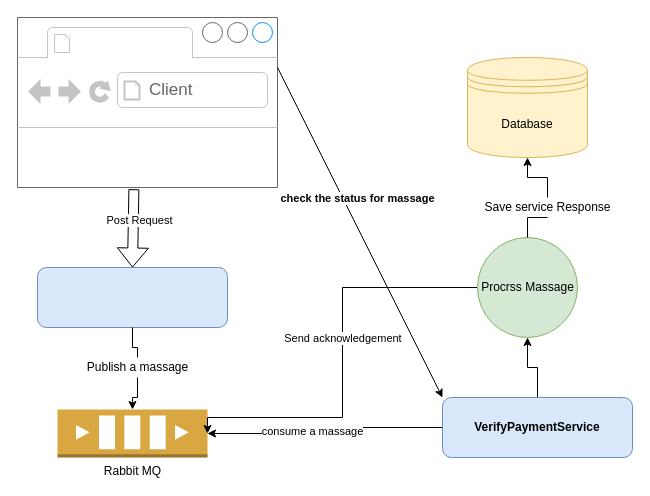
Some shapes in this 650 by 496 pixel diagram are drawn without their labels. Each missing label, with the centre of its shape:
"AcceptMassageService" goes at pixel 132 297.
"Page 1" goes at pixel 132 42.
